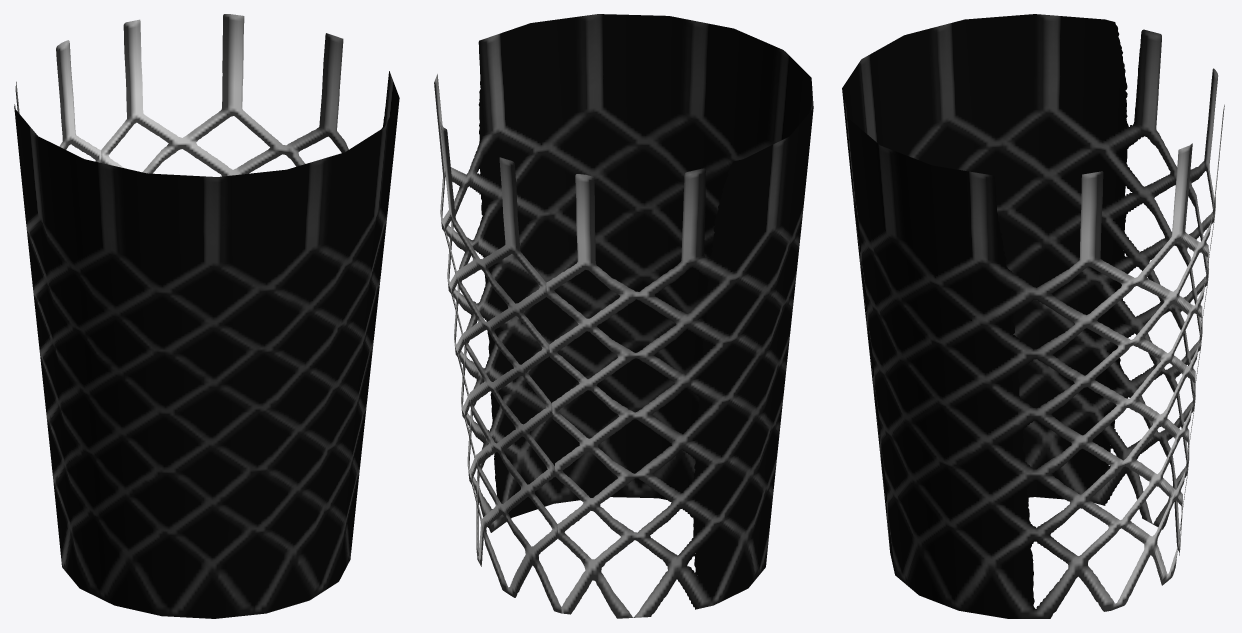
Rendered from basket_add.fbx.
The picture shows the model from 3 angles, left to right: view 1: azimuth 30°, elevation 25°; view 2: azimuth 150°, elevation 25°; view 3: azimuth 270°, elevation 25°; orthographic projection.
Visible parts, largest first — view 1: cylinder; view 2: cylinder; view 3: cylinder.
Boxes of the visible parts, left/top/right/bottom form: cylinder: left=14, top=14, right=399, bottom=618; cylinder: left=434, top=14, right=813, bottom=618; cylinder: left=842, top=14, right=1224, bottom=618.
Bounding box in the file's own units: 1.95 × 2.59 × 1.96.
